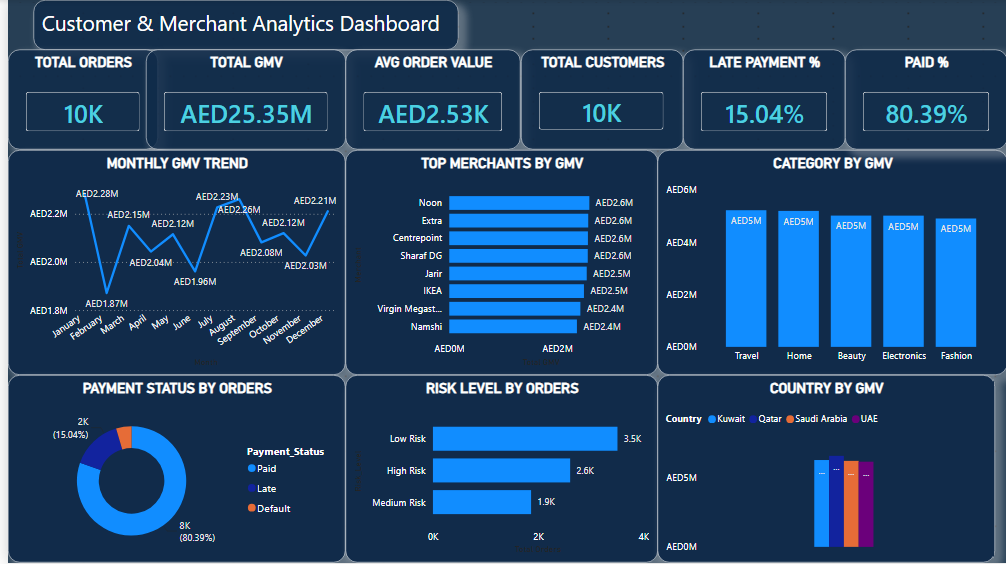

What the dashboard file says about the page in this screenshot:
{"tool":"powerbi","page":{"name":"Page 1","canvas":[1280,720],"ordinal":0},"visuals":[{"type":"textbox","box":[32,0,544,64],"z":0},{"type":"cardVisual","title":"TOTAL ORDERS","fields":{"Data":["clean_bnpl_data.Total Orders"]},"box":[0,64,192,128],"z":1},{"type":"cardVisual","title":"TOTAL GMV","fields":{"Data":["clean_bnpl_data.Total GMV"]},"box":[176,64,256,128],"z":2},{"type":"cardVisual","title":"AVG ORDER VALUE","fields":{"Data":["clean_bnpl_data.Average Order Value"]},"box":[432,64,224,128],"z":3},{"type":"cardVisual","title":"TOTAL CUSTOMERS","fields":{"Data":["clean_bnpl_data.Total Customers"]},"box":[656,64,208,128],"z":4},{"type":"cardVisual","title":"LATE PAYMENT %","fields":{"Data":["clean_bnpl_data.Late Payment %"]},"box":[864,64,208,128],"z":5},{"type":"lineChart","title":"MONTHLY GMV TREND","fields":{"Category":["clean_bnpl_data.Order_Date.Variation.Date Hierarchy.Month"],"Y":["clean_bnpl_data.Total GMV"]},"box":[0,192,432,288],"z":6},{"type":"barChart","title":"TOP MERCHANTS BY GMV","fields":{"Category":["clean_bnpl_data.Merchant"],"Y":["clean_bnpl_data.Total GMV"]},"box":[432,192,400,288],"z":7},{"type":"clusteredColumnChart","title":"CATEGORY BY GMV","fields":{"Category":["clean_bnpl_data.Category"],"Y":["clean_bnpl_data.Total GMV"]},"box":[832,192,448,288],"z":8},{"type":"donutChart","title":"PAYMENT STATUS BY ORDERS","fields":{"Category":["clean_bnpl_data.Payment_Status"],"Y":["clean_bnpl_data.Total Orders"]},"box":[0,480,432,240],"z":9},{"type":"barChart","title":"RISK LEVEL BY ORDERS","fields":{"Y":["clean_bnpl_data.Total Orders"],"Category":["clean_bnpl_data.Risk_Level"]},"box":[432,480,400,240],"z":10},{"type":"clusteredColumnChart","title":"COUNTRY BY GMV","fields":{"Y":["clean_bnpl_data.Total GMV"],"Series":["clean_bnpl_data.Country"]},"box":[832,480,432,240],"z":11},{"type":"cardVisual","title":" PAID %","fields":{"Data":["clean_bnpl_data.Paid %"]},"box":[1072,64,208,128],"z":14}]}

Visuals, with their boxes in screenshot pixels (x1, y1, x2, y2), scaled from the page's 1280x720 canvas onto the 1006x564 screenshot:
textbox: Rect(25, 0, 453, 50)
"TOTAL ORDERS" cardVisual: Rect(0, 50, 151, 150)
"TOTAL GMV" cardVisual: Rect(138, 50, 340, 150)
"AVG ORDER VALUE" cardVisual: Rect(340, 50, 516, 150)
"TOTAL CUSTOMERS" cardVisual: Rect(516, 50, 679, 150)
"LATE PAYMENT %" cardVisual: Rect(679, 50, 843, 150)
"MONTHLY GMV TREND" lineChart: Rect(0, 150, 340, 376)
"TOP MERCHANTS BY GMV" barChart: Rect(340, 150, 654, 376)
"CATEGORY BY GMV" clusteredColumnChart: Rect(654, 150, 1005, 376)
"PAYMENT STATUS BY ORDERS" donutChart: Rect(0, 376, 340, 563)
"RISK LEVEL BY ORDERS" barChart: Rect(340, 376, 654, 563)
"COUNTRY BY GMV" clusteredColumnChart: Rect(654, 376, 993, 563)
" PAID %" cardVisual: Rect(843, 50, 1005, 150)
